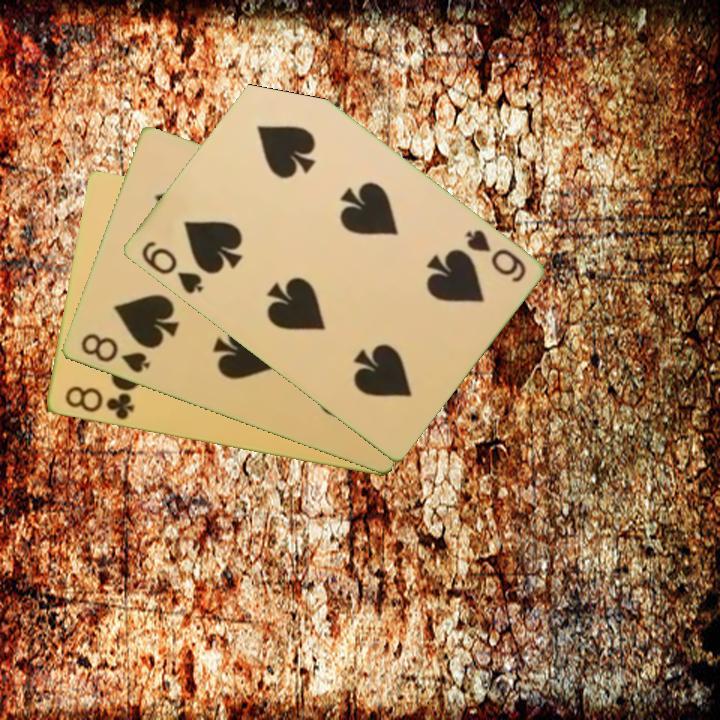6s: (137, 237, 206, 298), (461, 226, 529, 286)
8c: (61, 383, 137, 423)
8s: (76, 330, 153, 376)
